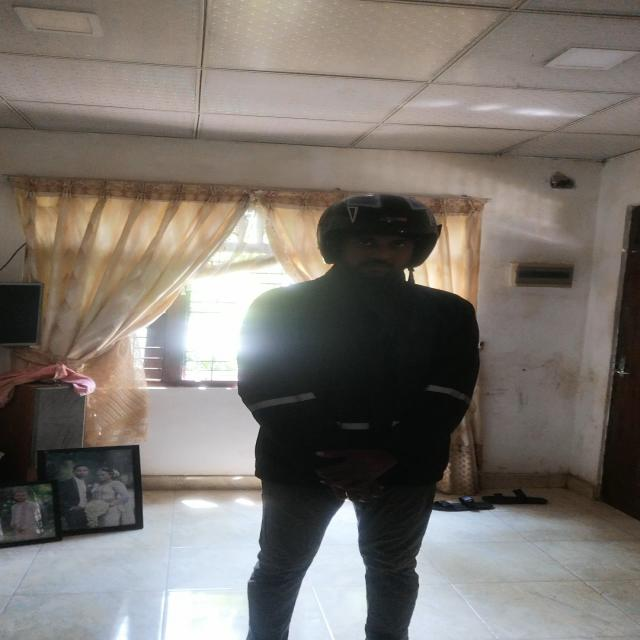Helmet_Wearer: (313, 190, 453, 293)
Jacket_Wearer: (240, 268, 487, 506)
Person: (241, 188, 486, 640)
